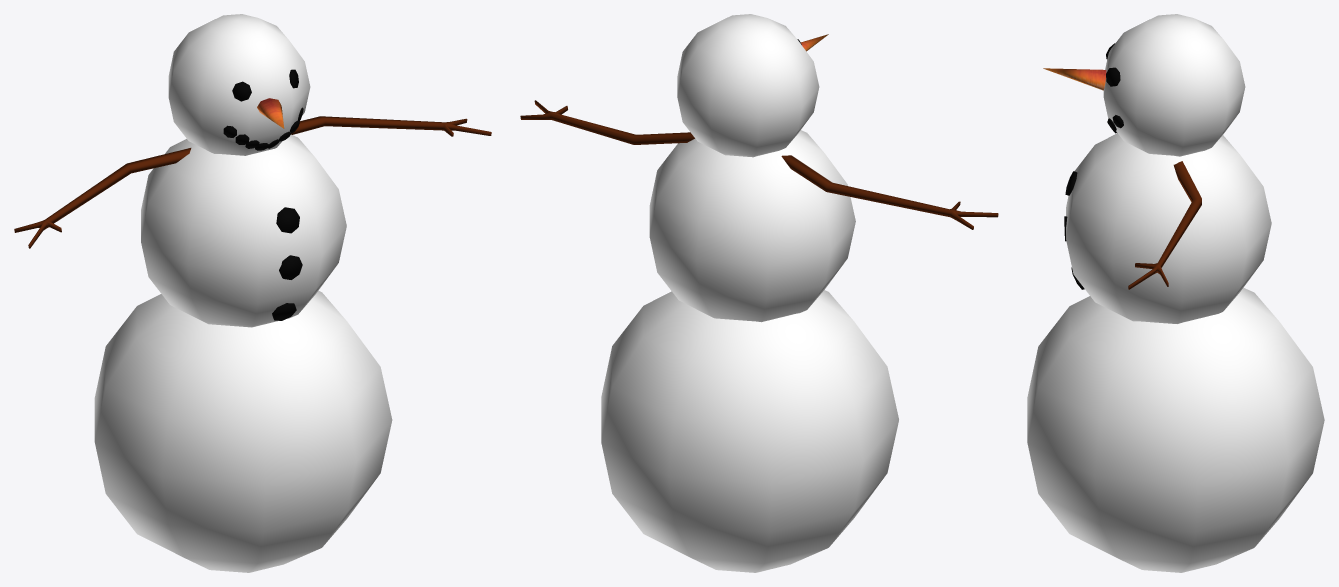
File: WorldItem_SnowMan.fbx
The picture shows the model from 3 angles, left to right: view 1: azimuth 30°, elevation 25°; view 2: azimuth 150°, elevation 25°; view 3: azimuth 270°, elevation 25°; orthographic projection.
Visible parts, largest first — view 1: Snowman; view 2: Snowman; view 3: Snowman.
Boxes of the visible parts, <box> form: Snowman: <box>14,14,491,572</box>; Snowman: <box>520,14,998,572</box>; Snowman: <box>1027,14,1324,572</box>.
Size of the model in its own units: 0.9827 by 1.09 by 0.5466.
